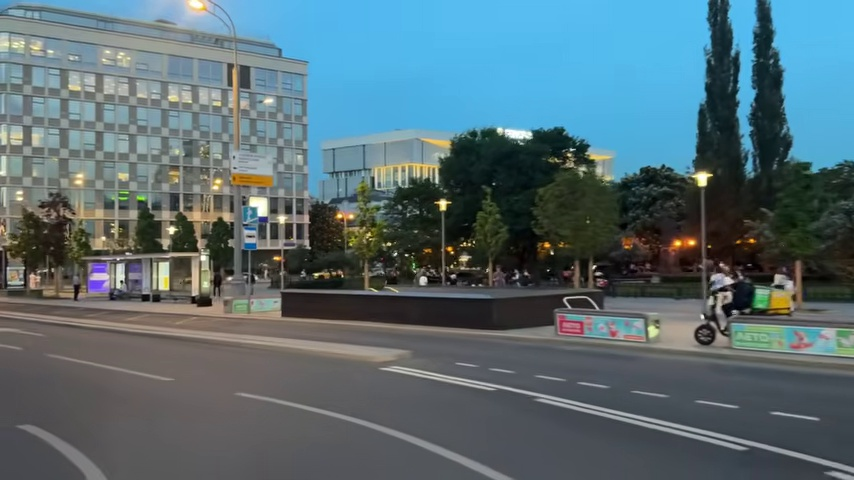acesa: (187, 0, 208, 15)
